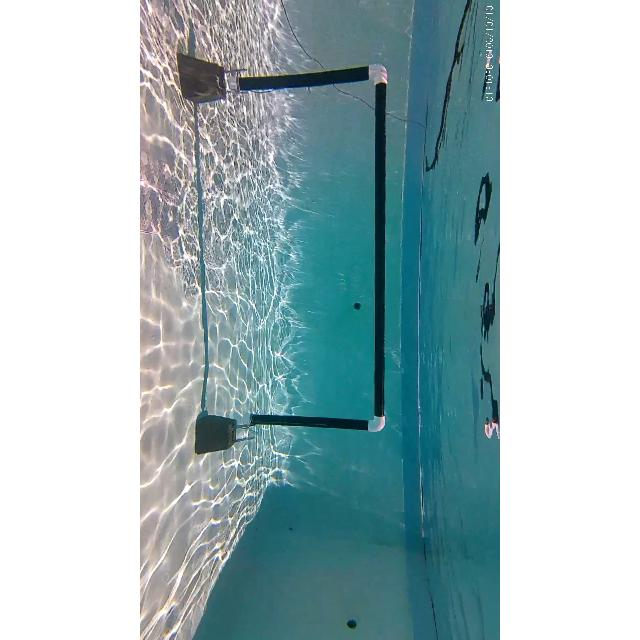prequal gate: (232, 53, 390, 433)
prequal gate leg l: (178, 54, 390, 98)
prequal gate leg r: (195, 406, 388, 456)
